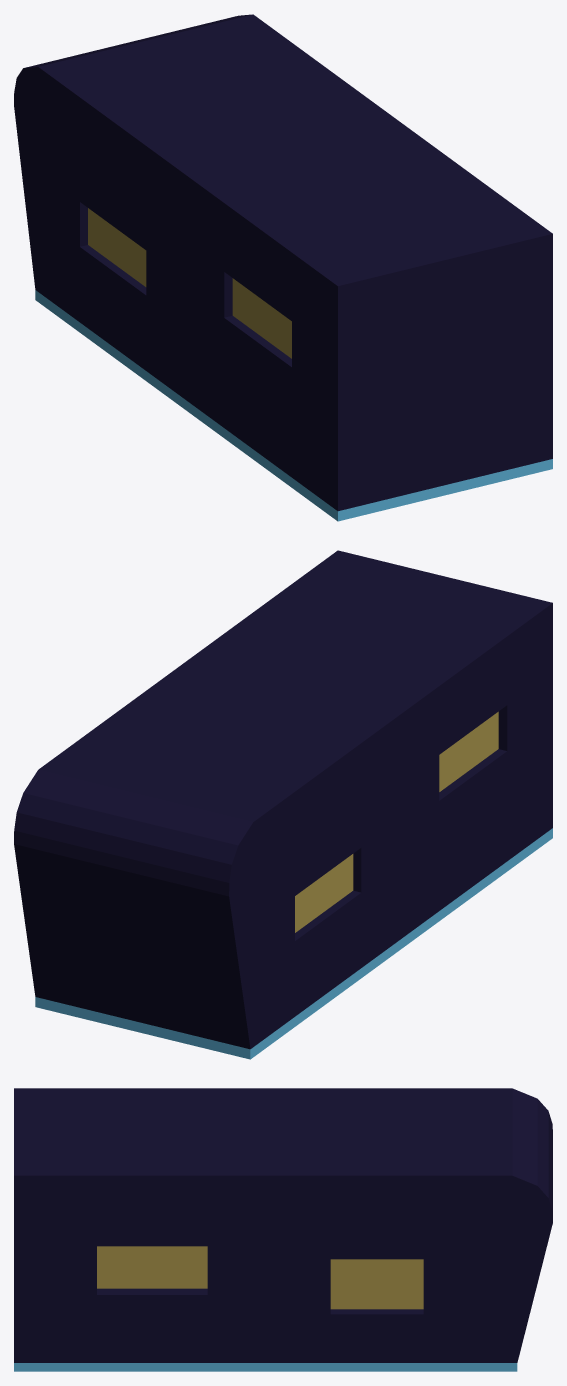
Rendered from SmallHouse1.fbx.
3 views of the same model, one above another, from view 1: azimuth 30°, elevation 25°; view 2: azimuth 150°, elevation 25°; view 3: azimuth 270°, elevation 25° (orthographic). The views are drawn at different scales.
Parts seen in each view (by area): view 1: SmallHouse1; view 2: SmallHouse1; view 3: SmallHouse1.
Boxes of the visible parts, x1,y1,x2,y2 form: SmallHouse1: [14, 14, 552, 521]; SmallHouse1: [14, 550, 552, 1059]; SmallHouse1: [14, 1088, 552, 1371].
Size of the model in its own units: 134 by 140 by 350.
